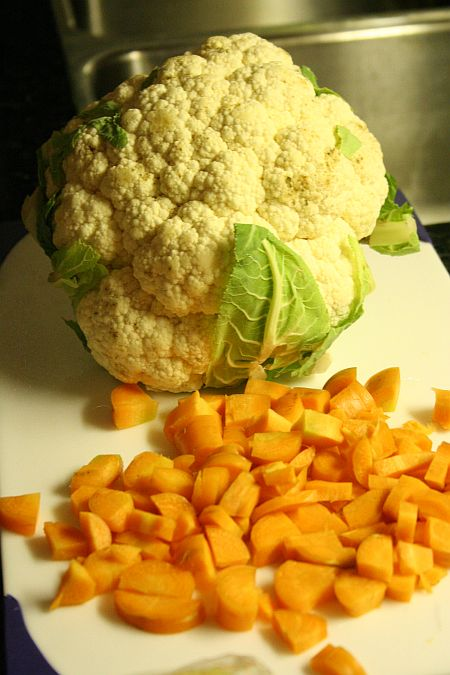cauliflower: (54, 28, 392, 401)
